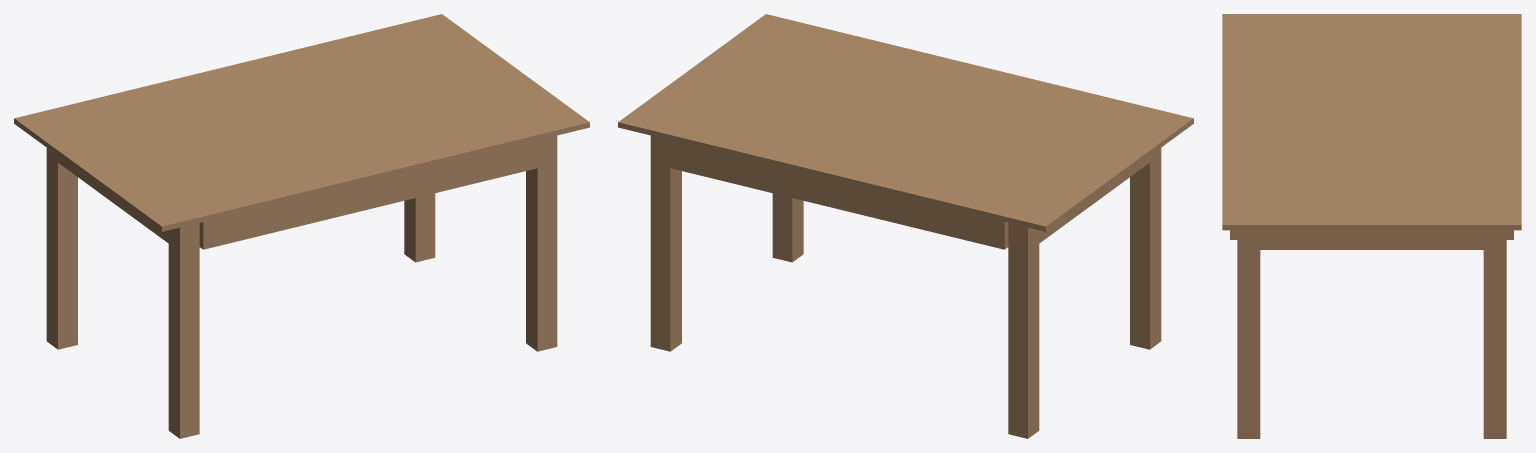
File: Table.glb
3 renders of one model, left to right at view 1: azimuth 30°, elevation 25°; view 2: azimuth 150°, elevation 25°; view 3: azimuth 270°, elevation 25°, orthographic.
Visible parts, largest first — view 1: top, apron.long_1, leg_1, leg_2, leg_3, leg_4, apron.short_1; view 2: top, apron.long_2, leg_3, leg_4, leg_1, leg_2, apron.short_1; view 3: top, leg_2, leg_4, apron.short_2.
Boxes of the visible parts, <box> form: top: <box>14,14,589,231</box>; apron.long_1: <box>199,139,541,249</box>; leg_1: <box>168,223,199,438</box>; leg_2: <box>526,135,557,351</box>; leg_3: <box>46,148,77,349</box>; leg_4: <box>404,193,435,262</box>; apron.short_1: <box>58,156,168,243</box>; top: <box>618,14,1193,231</box>; apron.long_2: <box>666,139,1008,249</box>; leg_3: <box>1008,223,1039,438</box>; leg_4: <box>650,135,681,351</box>; leg_1: <box>1130,148,1161,349</box>; leg_2: <box>772,193,803,262</box>; apron.short_1: <box>1039,156,1149,243</box>; top: <box>1222,14,1521,230</box>; leg_2: <box>1237,230,1260,438</box>; leg_4: <box>1483,230,1506,438</box>; apron.short_2: <box>1260,230,1483,249</box>.
Size of the model in its own units: 1.52 by 0.76 by 0.91.
